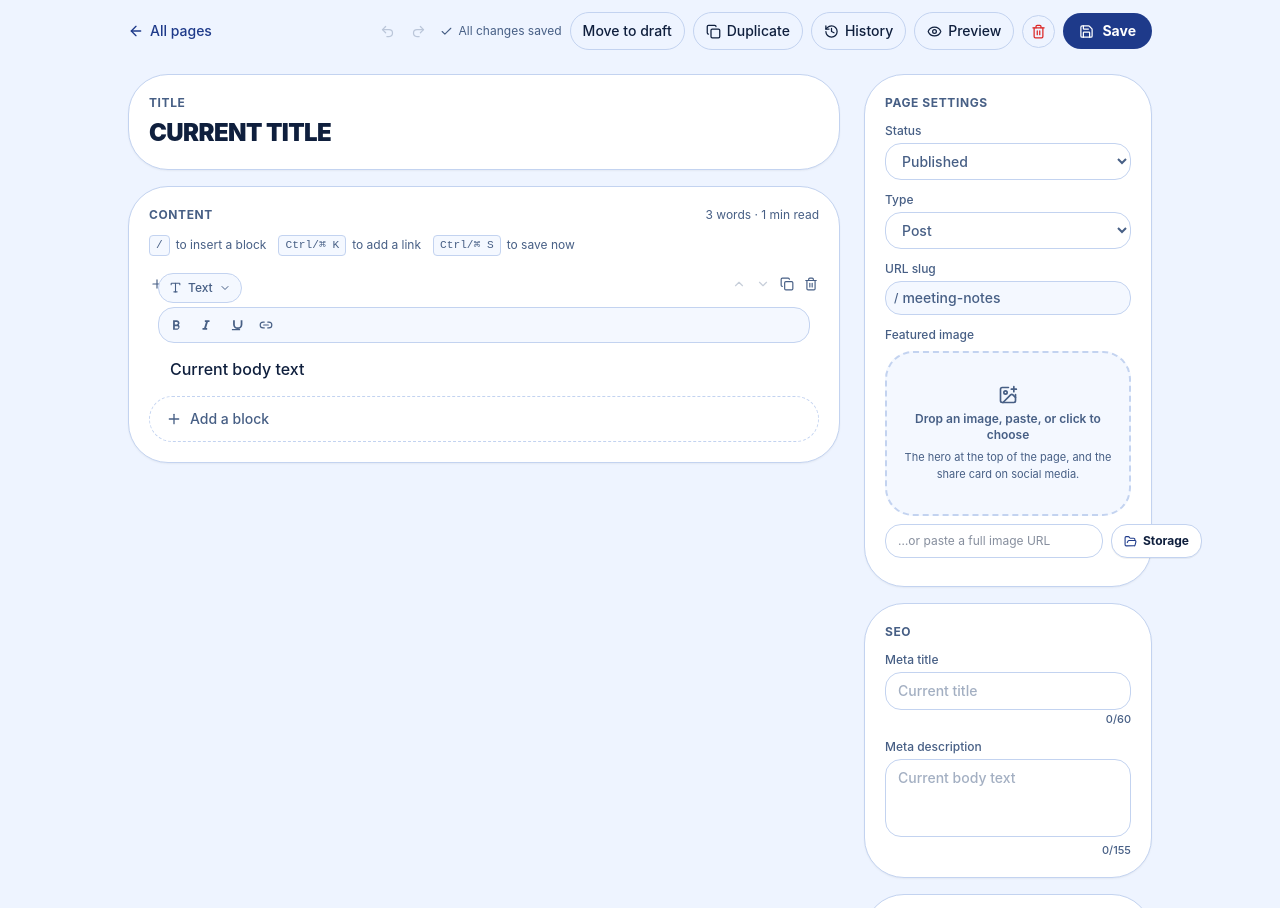
Test: ContentEditor version history › labels each row with its status instead of only a timestamp
Click the button "History": [859, 31] box [811, 12, 906, 50]
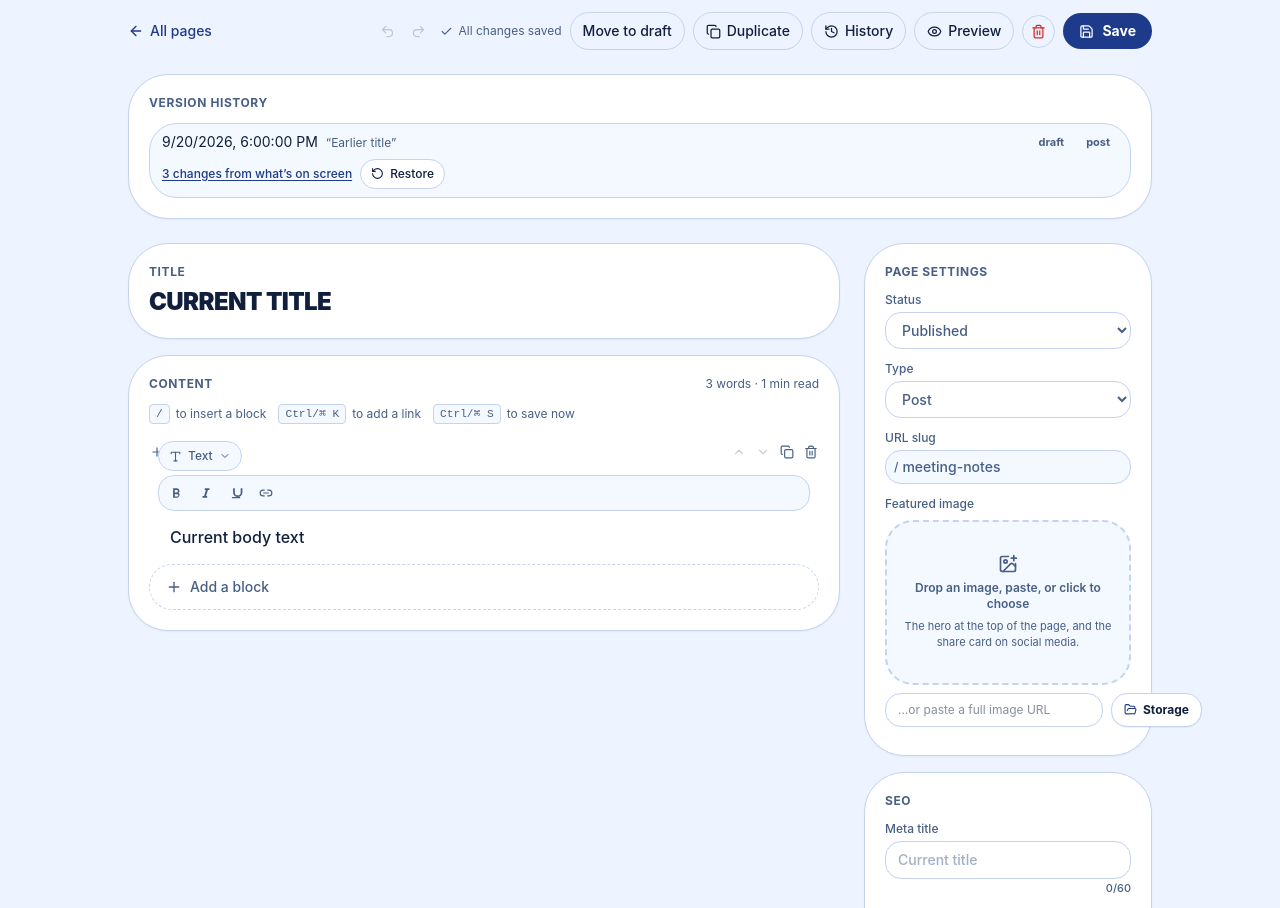
expect the text "draft" is shown: met, box [570, 12, 685, 50]
expect the text "Earlier title" is shown: met, box [331, 135, 391, 150]
